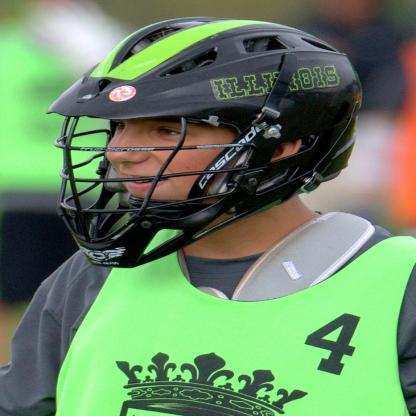Helmet: (45, 15, 361, 270)
